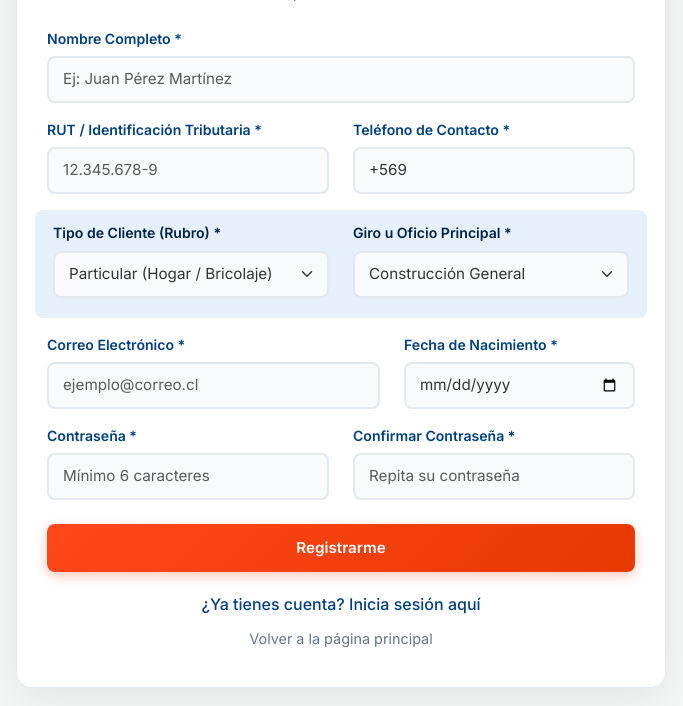
Test: Prueba 10: Validación de Campos Obligatorios en Formularios › debe alertar y no permitir enviar el formulario de registro si los campos requeridos están vacíos
(page scrolled)
# Intentar enviar formulario vacío
Click the button "Registrarme".
click(341, 548)  # box [47, 524, 635, 572]
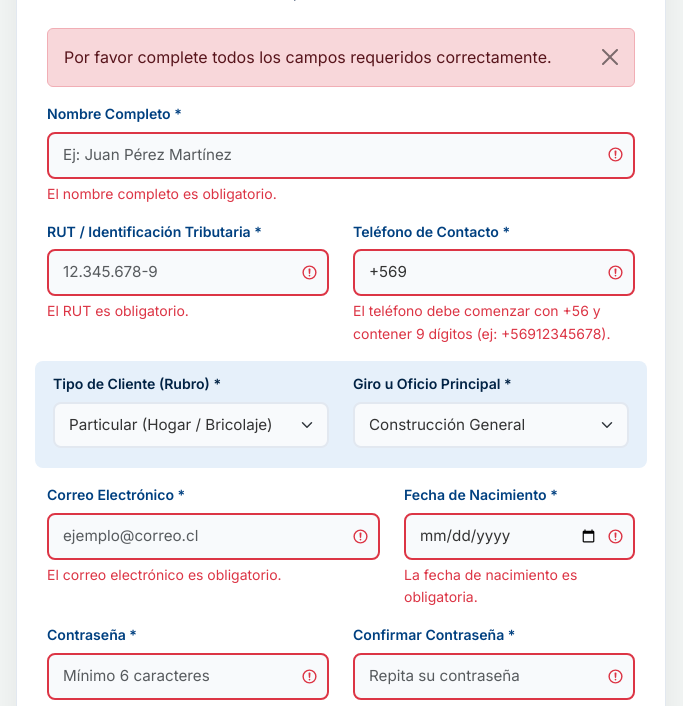
Now the text "El nombre completo es obligatorio." is shown, box [47, 184, 277, 202]
Now the text "El RUT es obligatorio." is shown, box [47, 302, 189, 319]
Now the text "El correo electrónico es obligatorio." is shown, box [47, 566, 282, 583]
